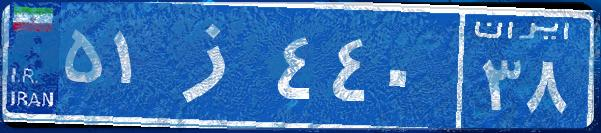0: (385, 28, 445, 110)
1: (110, 28, 158, 105)
3: (475, 38, 525, 113)
4: (273, 28, 330, 110), (330, 28, 385, 110)
5: (57, 26, 110, 107)
8: (525, 38, 570, 115)
ز: (158, 15, 273, 115)
